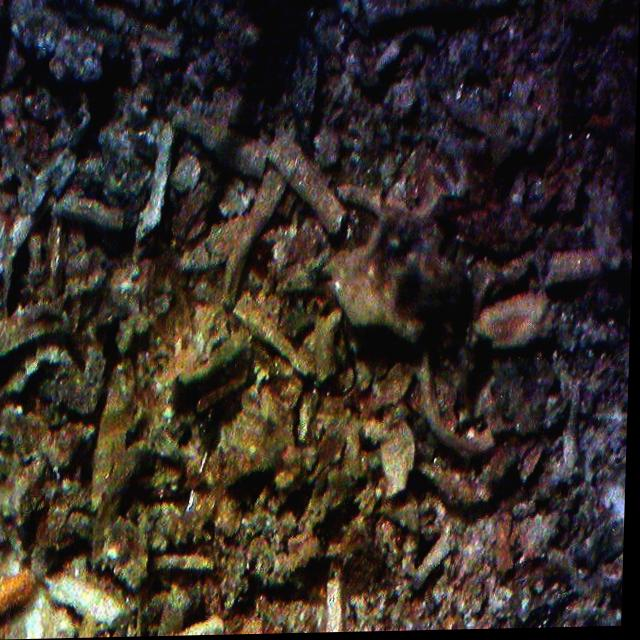microplastic: (290, 308, 393, 414)
